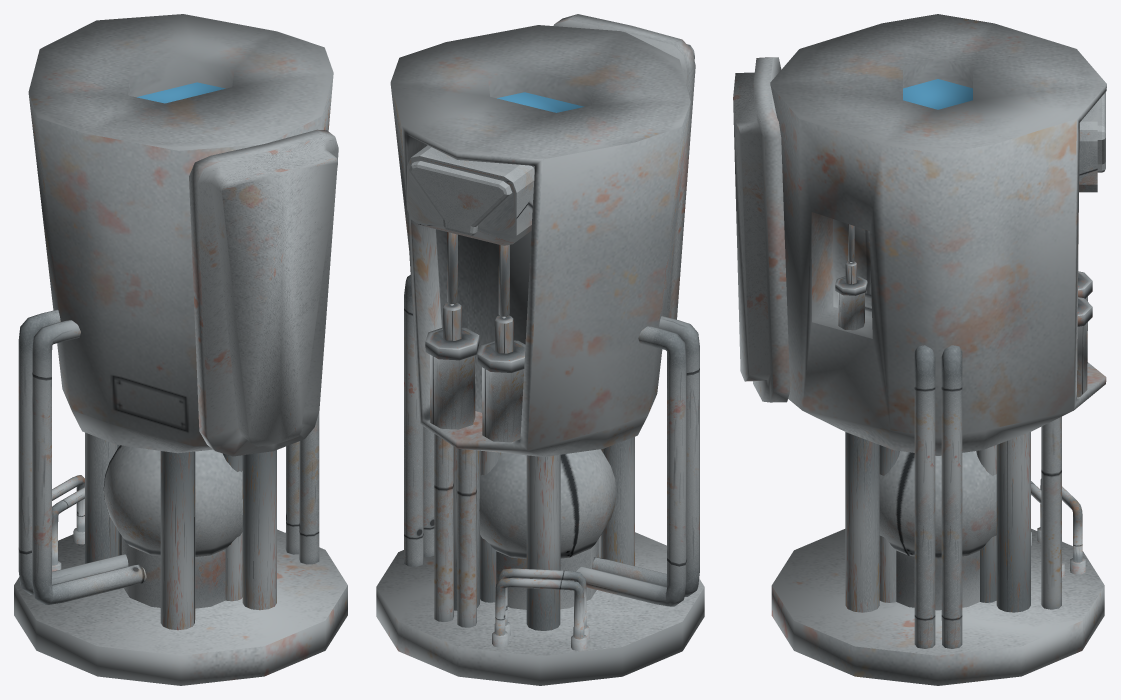
The model's file is OmegaPumpCombinedMesh.fbx.
The picture shows the model from 3 angles, left to right: view 1: azimuth 30°, elevation 25°; view 2: azimuth 150°, elevation 25°; view 3: azimuth 270°, elevation 25°; orthographic projection.
Visible parts, largest first — view 1: OmegaPumpCmmbinedMesh; view 2: OmegaPumpCmmbinedMesh; view 3: OmegaPumpCmmbinedMesh.
Boxes of the visible parts, left/top/right/bottom form: OmegaPumpCmmbinedMesh: left=14, top=14, right=347, bottom=685; OmegaPumpCmmbinedMesh: left=376, top=14, right=704, bottom=685; OmegaPumpCmmbinedMesh: left=733, top=14, right=1106, bottom=685.
Bounding box in the file's own units: 1839 × 3134 × 1996.
